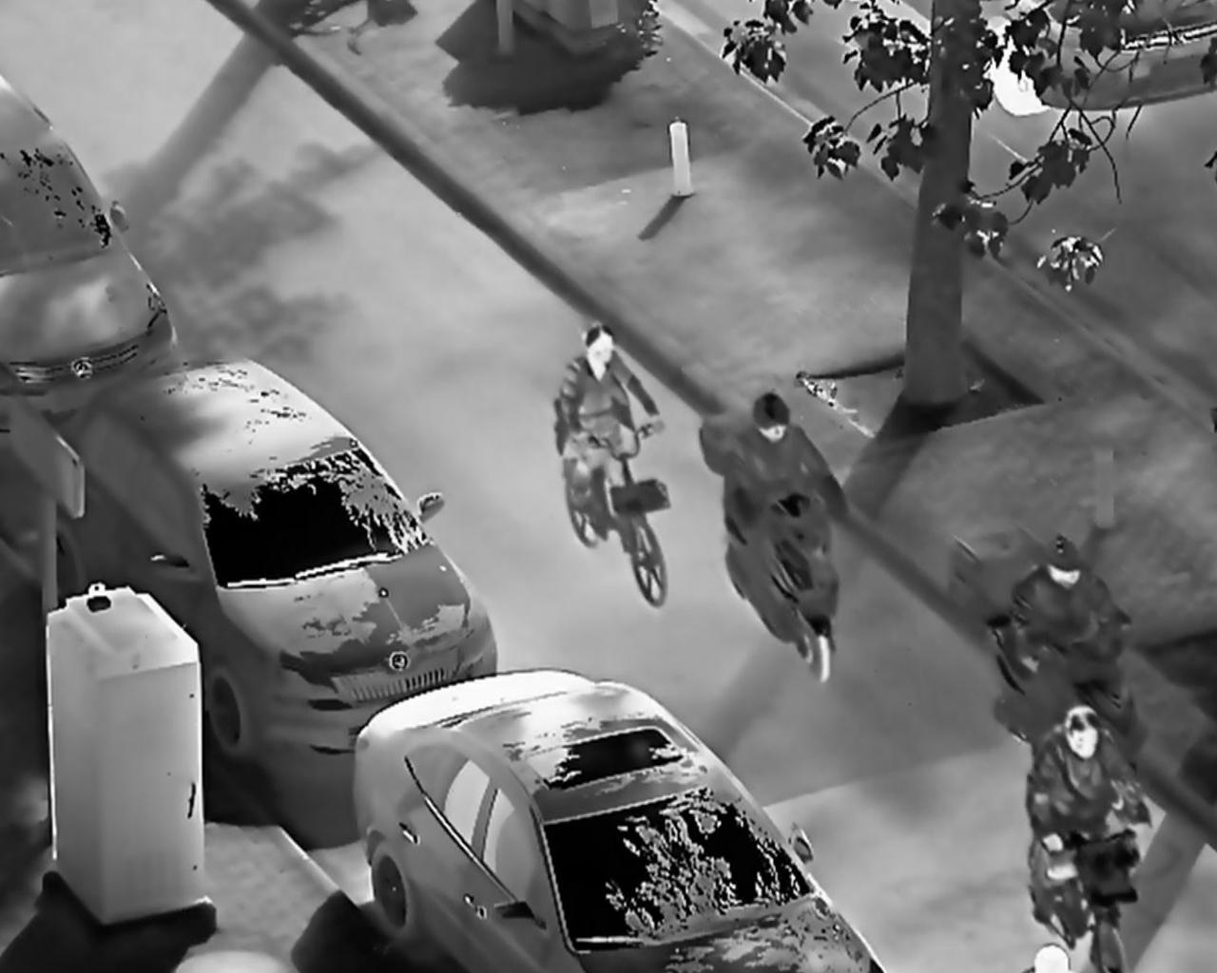person: (1026, 705, 1154, 949), (555, 322, 670, 546), (723, 391, 850, 550), (1009, 533, 1127, 677)
